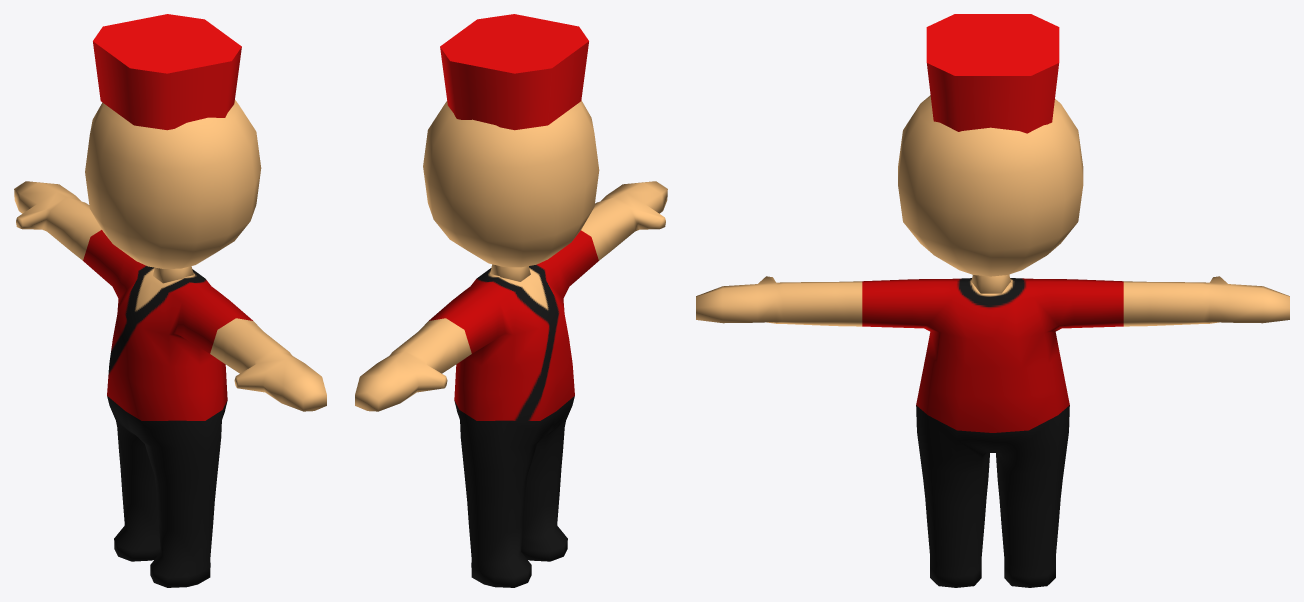
The model's file is cha03_waiter.FBX.
3 renders of one model, left to right at view 1: azimuth 30°, elevation 25°; view 2: azimuth 150°, elevation 25°; view 3: azimuth 270°, elevation 25°, orthographic. The views are drawn at different scales.
Visible parts, largest first — view 1: cha03_waiter, Cha02_Waiter_mu; view 2: cha03_waiter, Cha02_Waiter_mu; view 3: cha03_waiter, Cha02_Waiter_mu.
Part boxes in pixels (x1,y1,x2,y2): cha03_waiter: (14,100,326,587); Cha02_Waiter_mu: (93,14,241,130); cha03_waiter: (355,100,667,587); Cha02_Waiter_mu: (440,14,588,130); cha03_waiter: (696,95,1289,587); Cha02_Waiter_mu: (926,14,1059,133).
Bounding box in the file's own units: 0.7338 × 2.43 × 2.44.
